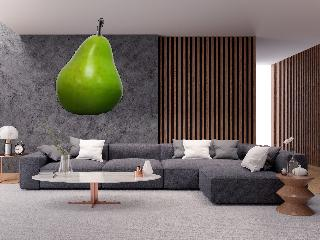pear: (54, 16, 126, 118)
